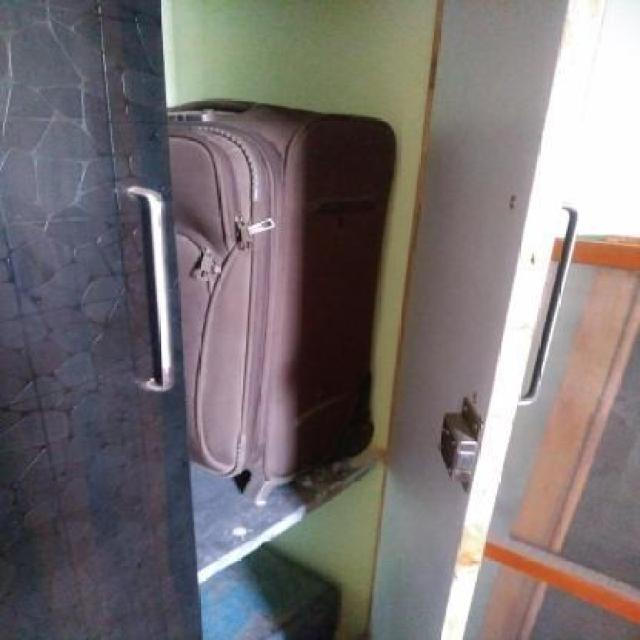backpack: (162, 95, 403, 492)
